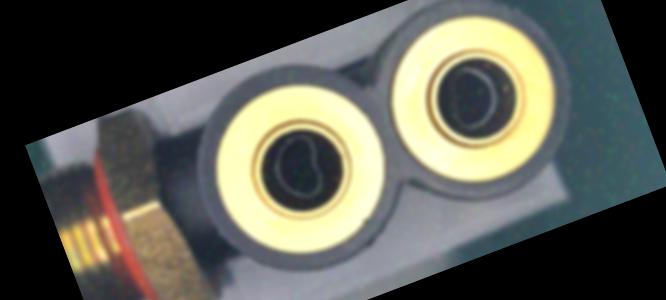off-centered: (258, 124, 343, 213), (426, 54, 513, 138)
